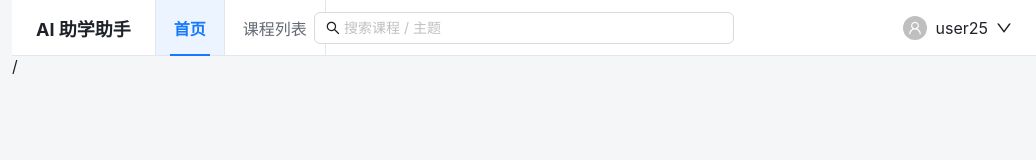
Test: 学习端顶部导航 › 回车搜索时进入带编码关键词的课程列表
Type "人工智能 入门" into the field with placeholder "搜索课程 / 主题" at {"x": 533, "y": 28}, box [344, 16, 722, 38]
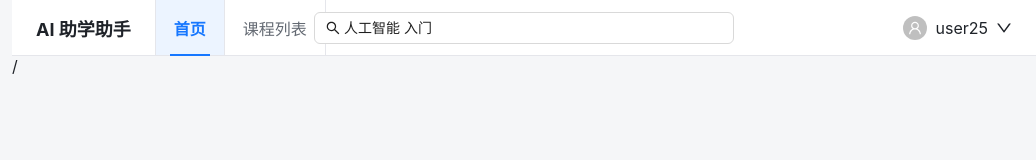
Press Enter in the field with placeholder "搜索课程 / 主题", box [344, 16, 722, 38]
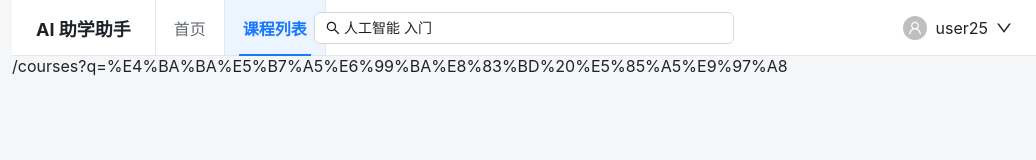
Expected: the text with test id "location" reads "/courses?q=%E4%BA%BA%E5%B7%A5%E6%99%BA%E8%83%BD%20%E5%85%A5%E9%97%A8", [12, 56, 788, 76]
